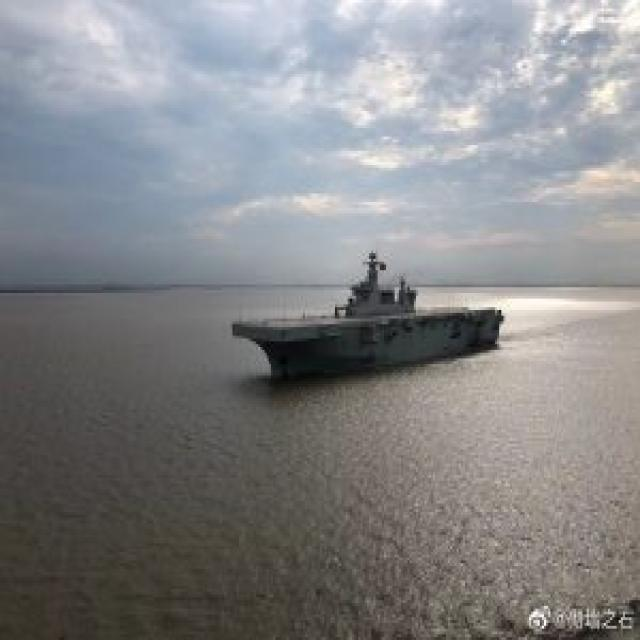Landing-Ship-Yushen-Class-075-CHI: (224, 238, 508, 391)
